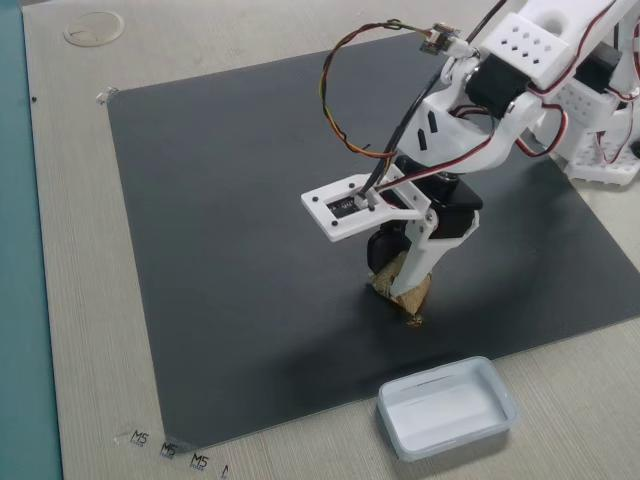gripper: (323, 177, 470, 294)
